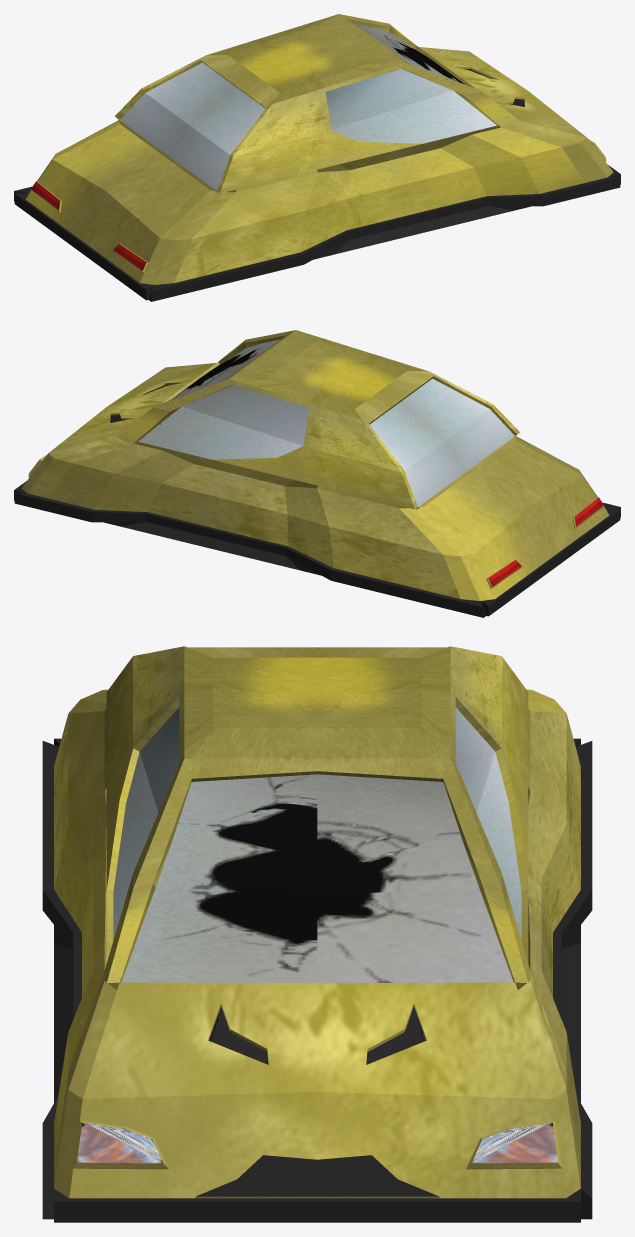
The model's file is Carros.obj.
The picture shows the model from 3 angles, top to bottom: view 1: azimuth 30°, elevation 25°; view 2: azimuth 150°, elevation 25°; view 3: azimuth 270°, elevation 25°; orthographic projection. The views are drawn at different scales.
Parts seen in each view (by area): view 1: Car1.002_Cube.007; view 2: Car1.002_Cube.007; view 3: Car1.002_Cube.007.
Part boxes in pixels (left/top/right/bottom): Car1.002_Cube.007: left=14, top=14, right=620, bottom=301; Car1.002_Cube.007: left=14, top=330, right=620, bottom=617; Car1.002_Cube.007: left=42, top=646, right=592, bottom=1222.
Size of the model in its own units: 9.22 by 2.68 by 4.62.
